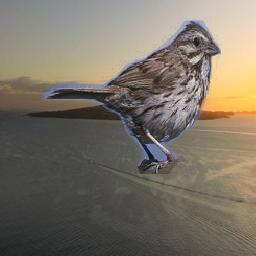Sparrow: (43, 16, 222, 174)
